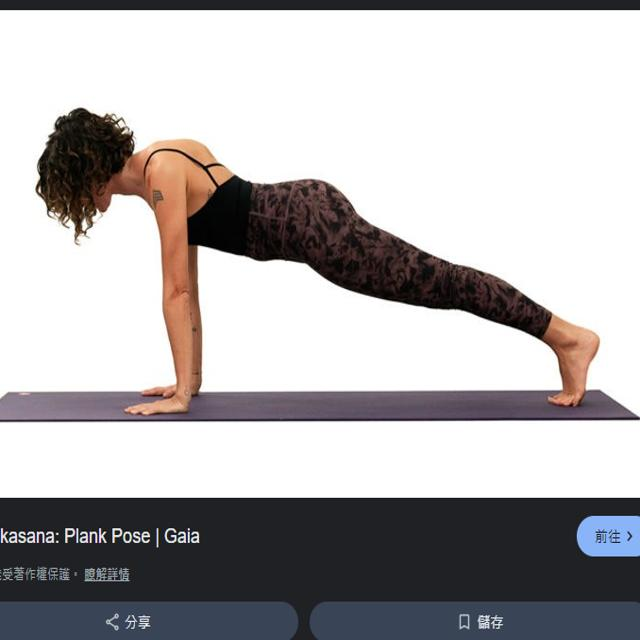Plank_Pose: (36, 104, 603, 424)
